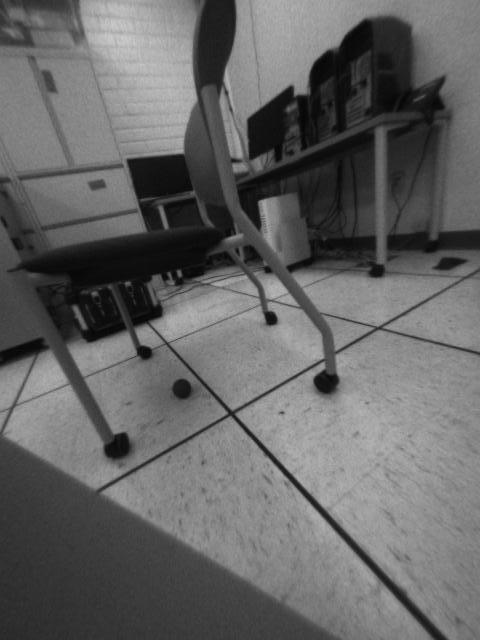dogtoy: (166, 371, 198, 403)
